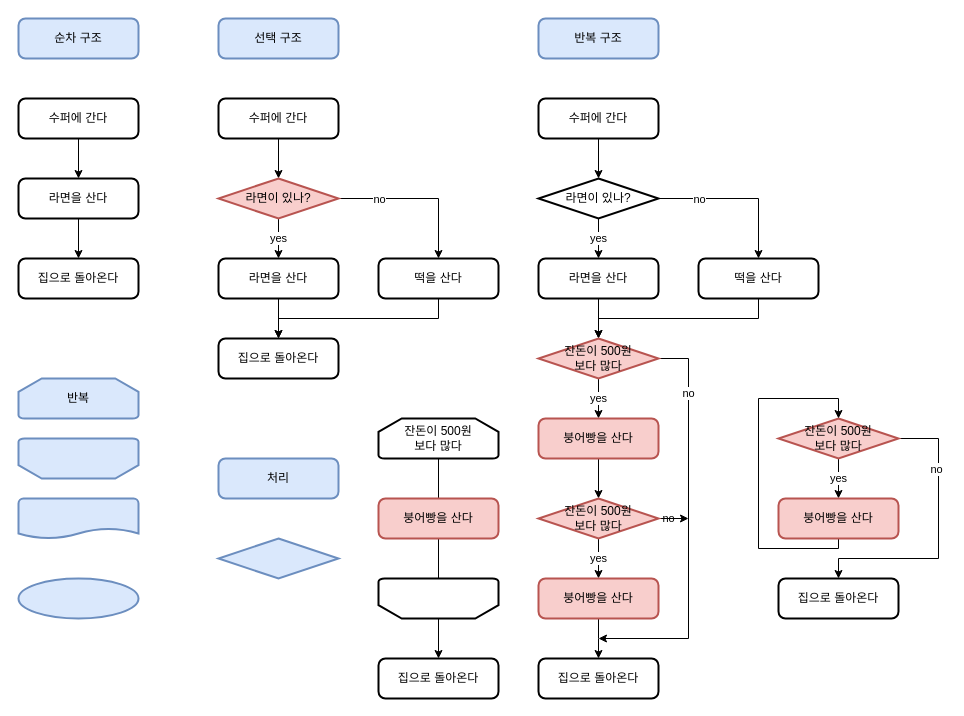
Some shapes in this 964 by 716 pixel diagram are drawn without their labels. The box of each missing label's shape, as (x1, y1, x2, y2) in pixels:
분기: (217, 537, 339, 579)
시작 / 끝: (17, 577, 139, 619)
출력: (17, 497, 139, 539)
